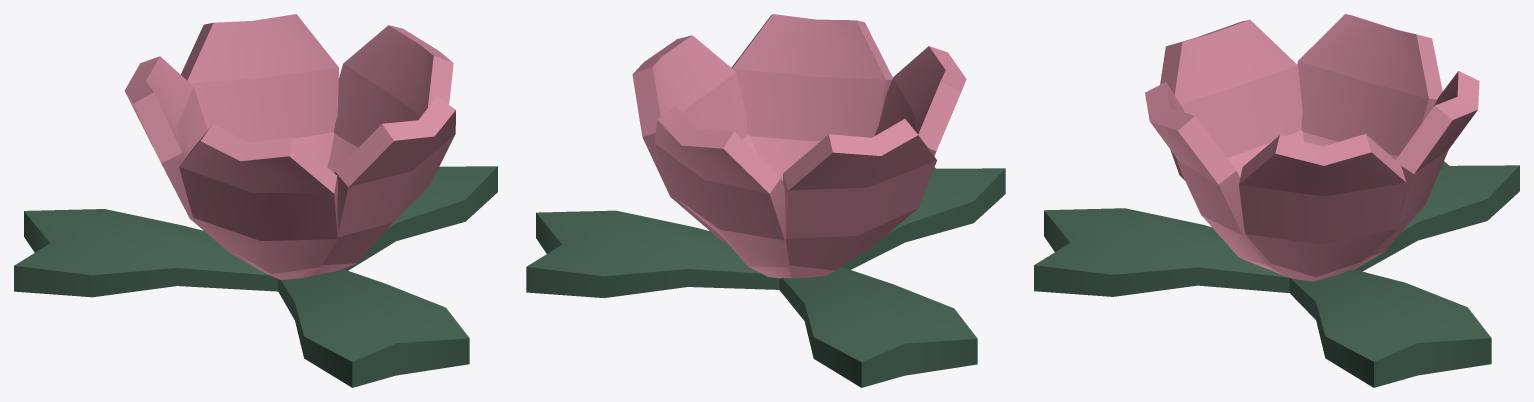
Rendered from Plant_02.fbx.
3 views of the same model, side by side, from view 1: azimuth 30°, elevation 25°; view 2: azimuth 150°, elevation 25°; view 3: azimuth 270°, elevation 25° (orthographic).
Visible parts, largest first — view 1: polySurface146, polySurface147; view 2: polySurface146, polySurface147; view 3: polySurface146, polySurface147.
Boxes of the visible parts, x1,y1,x2,y2 form: polySurface146: (124, 14, 455, 279); polySurface147: (14, 166, 497, 387); polySurface146: (632, 14, 966, 278); polySurface147: (526, 167, 1005, 387); polySurface146: (1145, 14, 1479, 281); polySurface147: (1034, 161, 1519, 387).
Size of the model in its own units: 9.09 by 3.9 by 8.2.
